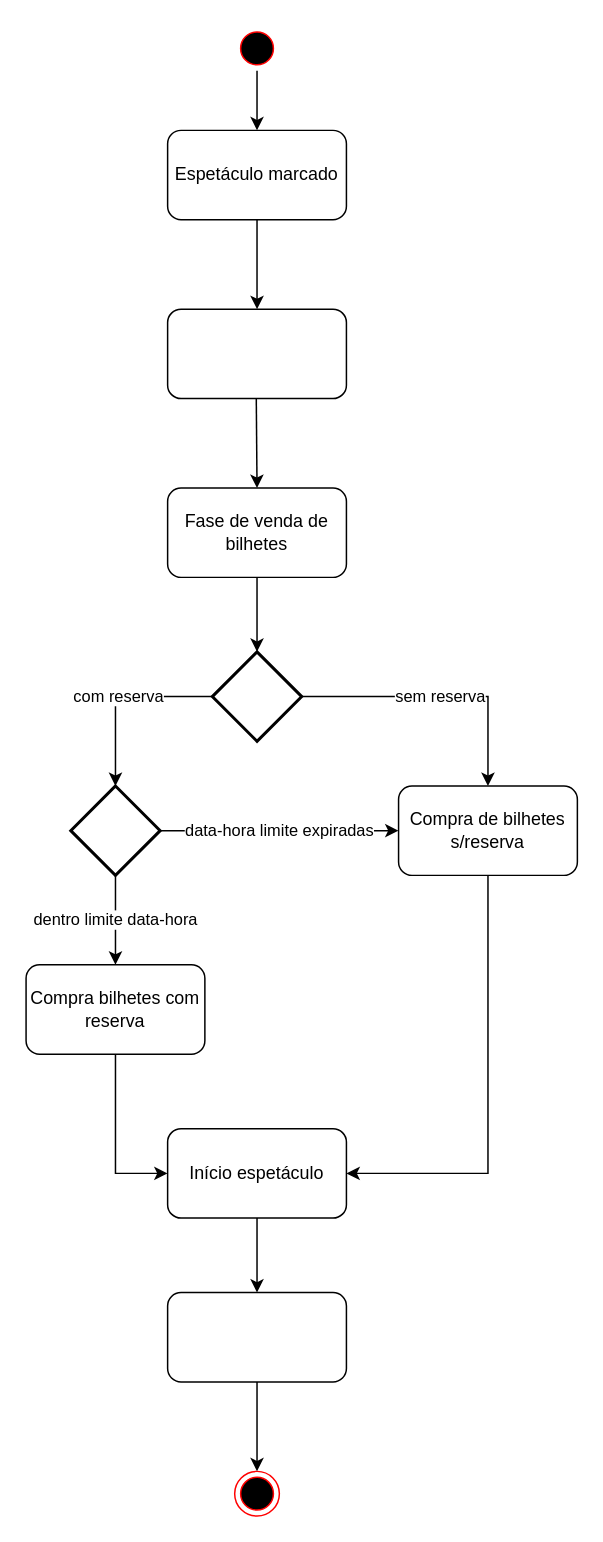
Image size: 603x1542. Some labels were removed from this diagram. Each missing label, with the box of its shape:
Fase de reserva de bilhetes: (166, 308, 346, 399)
Fim espetáculo: (166, 1291, 346, 1382)
